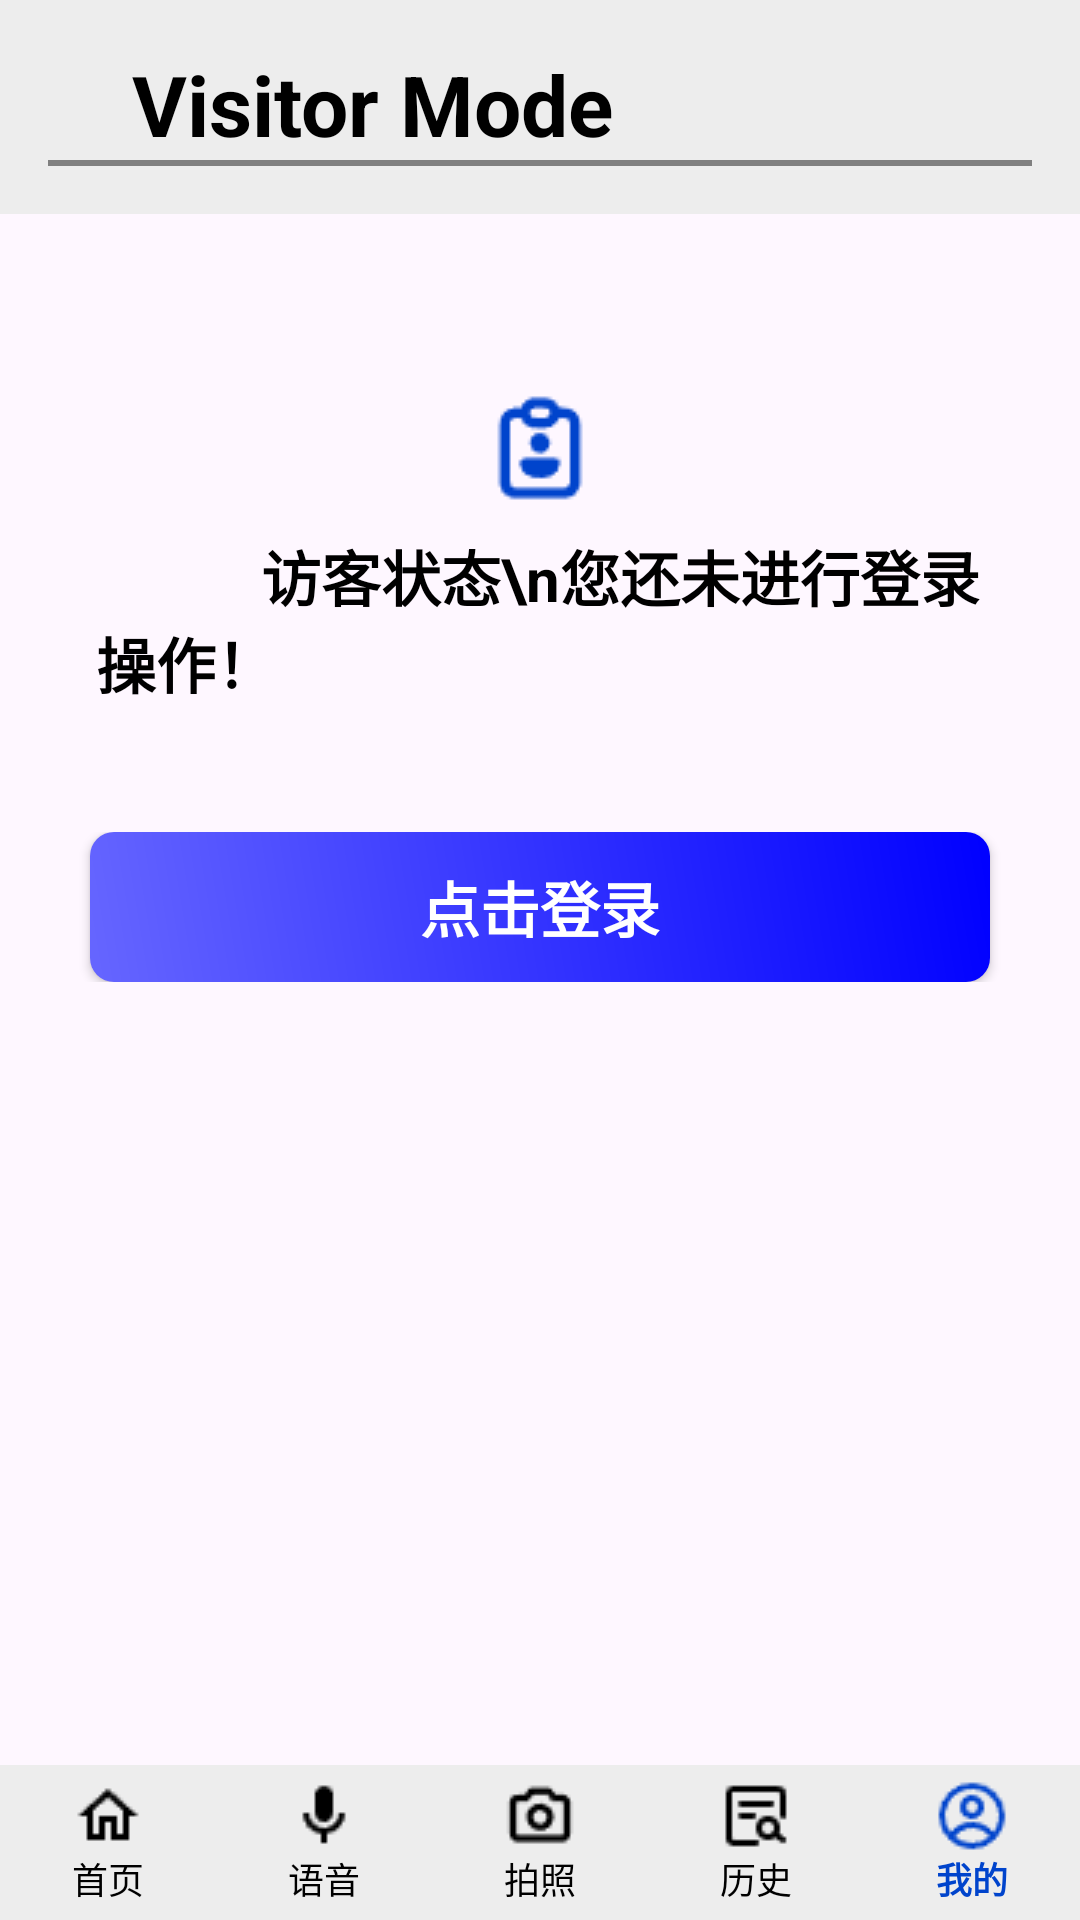

Point at icon controls on the screen. Image size 1080×1920, points as point (x, y).
person: point (972, 1816)
visitor: point (540, 448)
